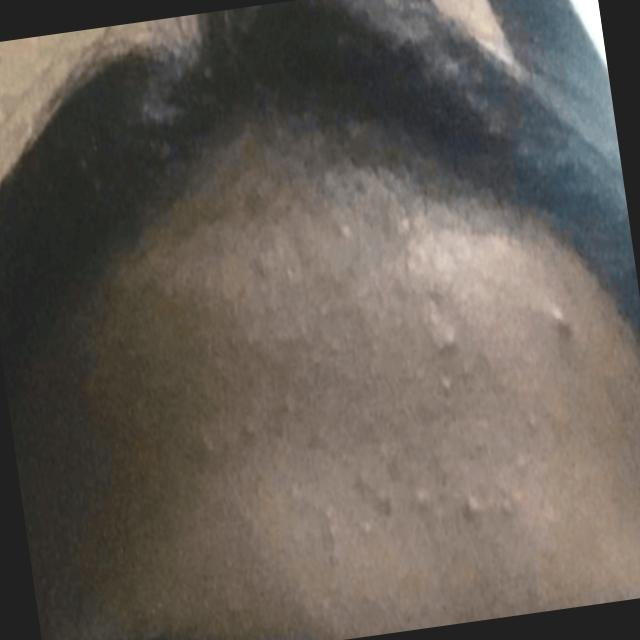fungal: (166, 276, 554, 604)
